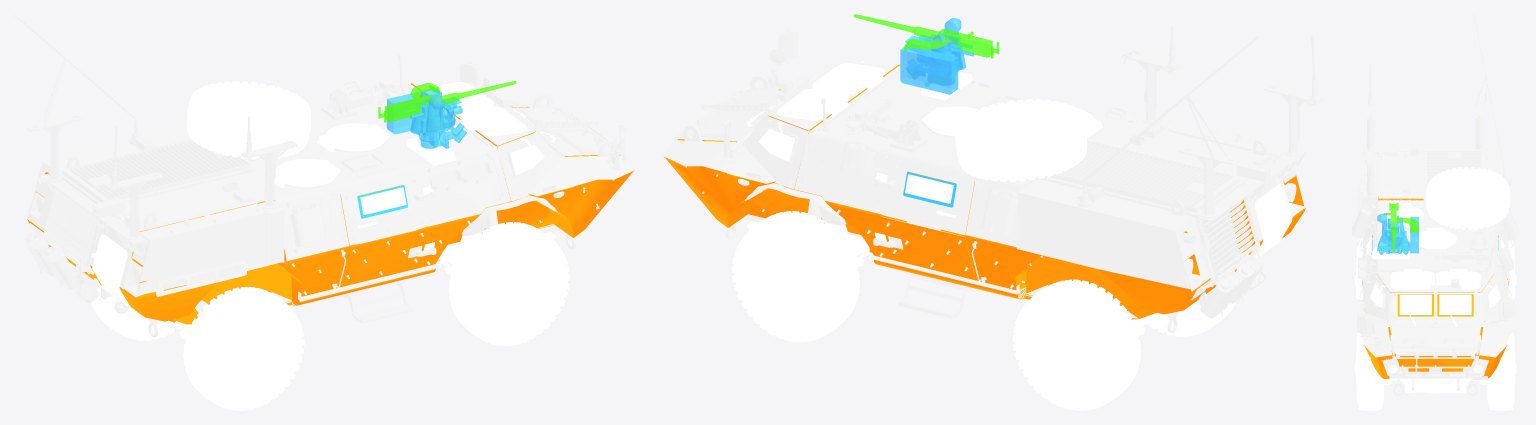
File: TAPV.gltf
The picture shows the model from 3 angles, left to right: view 1: azimuth 30°, elevation 25°; view 2: azimuth 150°, elevation 25°; view 3: azimuth 270°, elevation 25°; orthographic projection. The views are drawn at different scales.
Parts seen in each view (by area): view 1: 10_3, 10_1, 10_5, tapv_col, tapv_m2crows_turret_col_5, tapv_m2crows_col_1, 10_2, 10_4, tapv_m2crows_col; view 2: 10_3, 10_1, 10_5, tapv_col, tapv_m2crows_turret_col_5, tapv_m2crows_col_1, 10_2, 10_4, tapv_m2crows_col; view 3: 10_3, 10_1, 10_5, tapv_col, 10_4, 10_2, tapv_m2crows_turret_col_5, tapv_m2crows_col_1, tapv_m2crows_col.
Part boxes in pixels (left/top/right/bottom): 10_3: left=14, top=14, right=628, bottom=337; 10_1: left=27, top=82, right=634, bottom=312; 10_5: left=91, top=81, right=569, bottom=410; tapv_col: left=27, top=83, right=634, bottom=324; tapv_m2crows_turret_col_5: left=386, top=89, right=466, bottom=148; tapv_m2crows_col_1: left=378, top=81, right=516, bottom=122; 10_2: left=160, top=136, right=555, bottom=339; 10_4: left=362, top=144, right=544, bottom=214; tapv_m2crows_col: left=396, top=97, right=462, bottom=134; 10_3: left=675, top=25, right=1323, bottom=333; 10_1: left=663, top=63, right=1305, bottom=318; 10_5: left=732, top=99, right=1236, bottom=410; tapv_col: left=664, top=64, right=1305, bottom=319; tapv_m2crows_turret_col_5: left=900, top=18, right=962, bottom=94; tapv_m2crows_col_1: left=853, top=14, right=999, bottom=58; 10_2: left=747, top=71, right=1165, bottom=334; 10_4: left=758, top=129, right=951, bottom=202; tapv_m2crows_col: left=905, top=33, right=974, bottom=70; 10_3: left=1352, top=14, right=1521, bottom=395; 10_1: left=1361, top=153, right=1509, bottom=377; 10_5: left=1355, top=166, right=1516, bottom=410; tapv_col: left=1362, top=196, right=1509, bottom=378; 10_4: left=1366, top=237, right=1504, bottom=373; 10_2: left=1372, top=246, right=1487, bottom=393; tapv_m2crows_turret_col_5: left=1377, top=213, right=1418, bottom=254; tapv_m2crows_col_1: left=1383, top=202, right=1418, bottom=251; tapv_m2crows_col: left=1383, top=216, right=1403, bottom=248.
Size of the model in its own units: 7.41 by 4.74 by 2.87.
